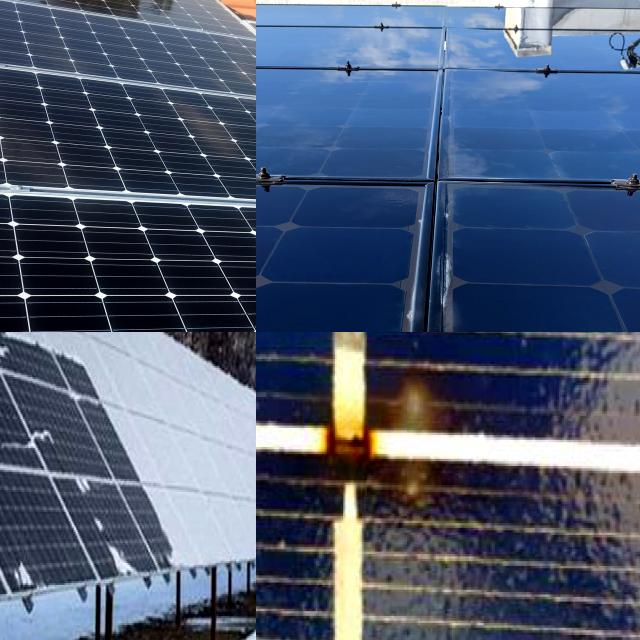crack: (0, 67, 256, 218), (0, 191, 256, 332), (0, 0, 256, 113), (434, 216, 620, 294), (256, 221, 459, 288), (0, 0, 233, 56), (256, 262, 431, 332), (445, 284, 640, 332), (435, 146, 593, 184), (256, 217, 334, 293), (568, 226, 640, 300), (326, 143, 434, 192), (256, 273, 314, 332), (0, 297, 51, 332)
panel: (92, 332, 214, 490), (64, 466, 136, 592), (0, 332, 82, 418), (226, 408, 256, 533), (162, 506, 215, 571), (0, 400, 57, 451), (5, 544, 53, 594), (0, 332, 53, 362)
shadow: (277, 332, 457, 551)
